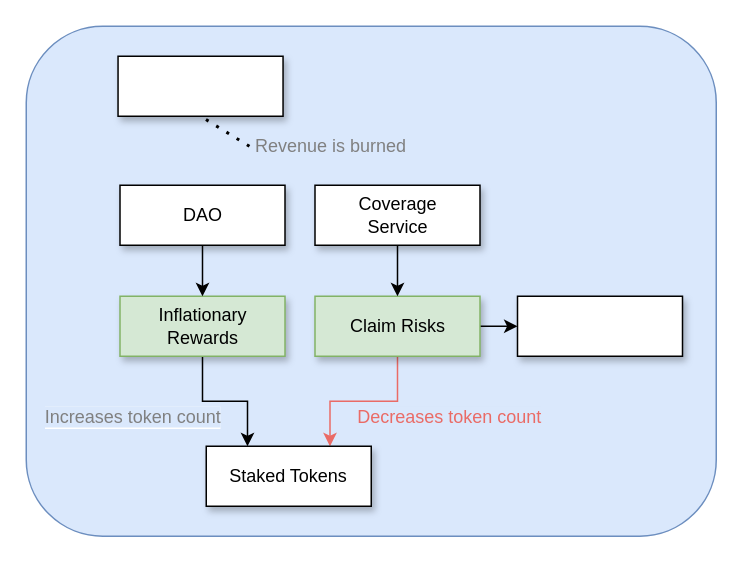
Some shapes in this 743 by 563 pixel diagram are drawn without their labels. Each missing label, with the centre of its shape:
"Payouts to covered entities" goes at point 601,328.
"Revenue from fees" goes at point 201,88.
